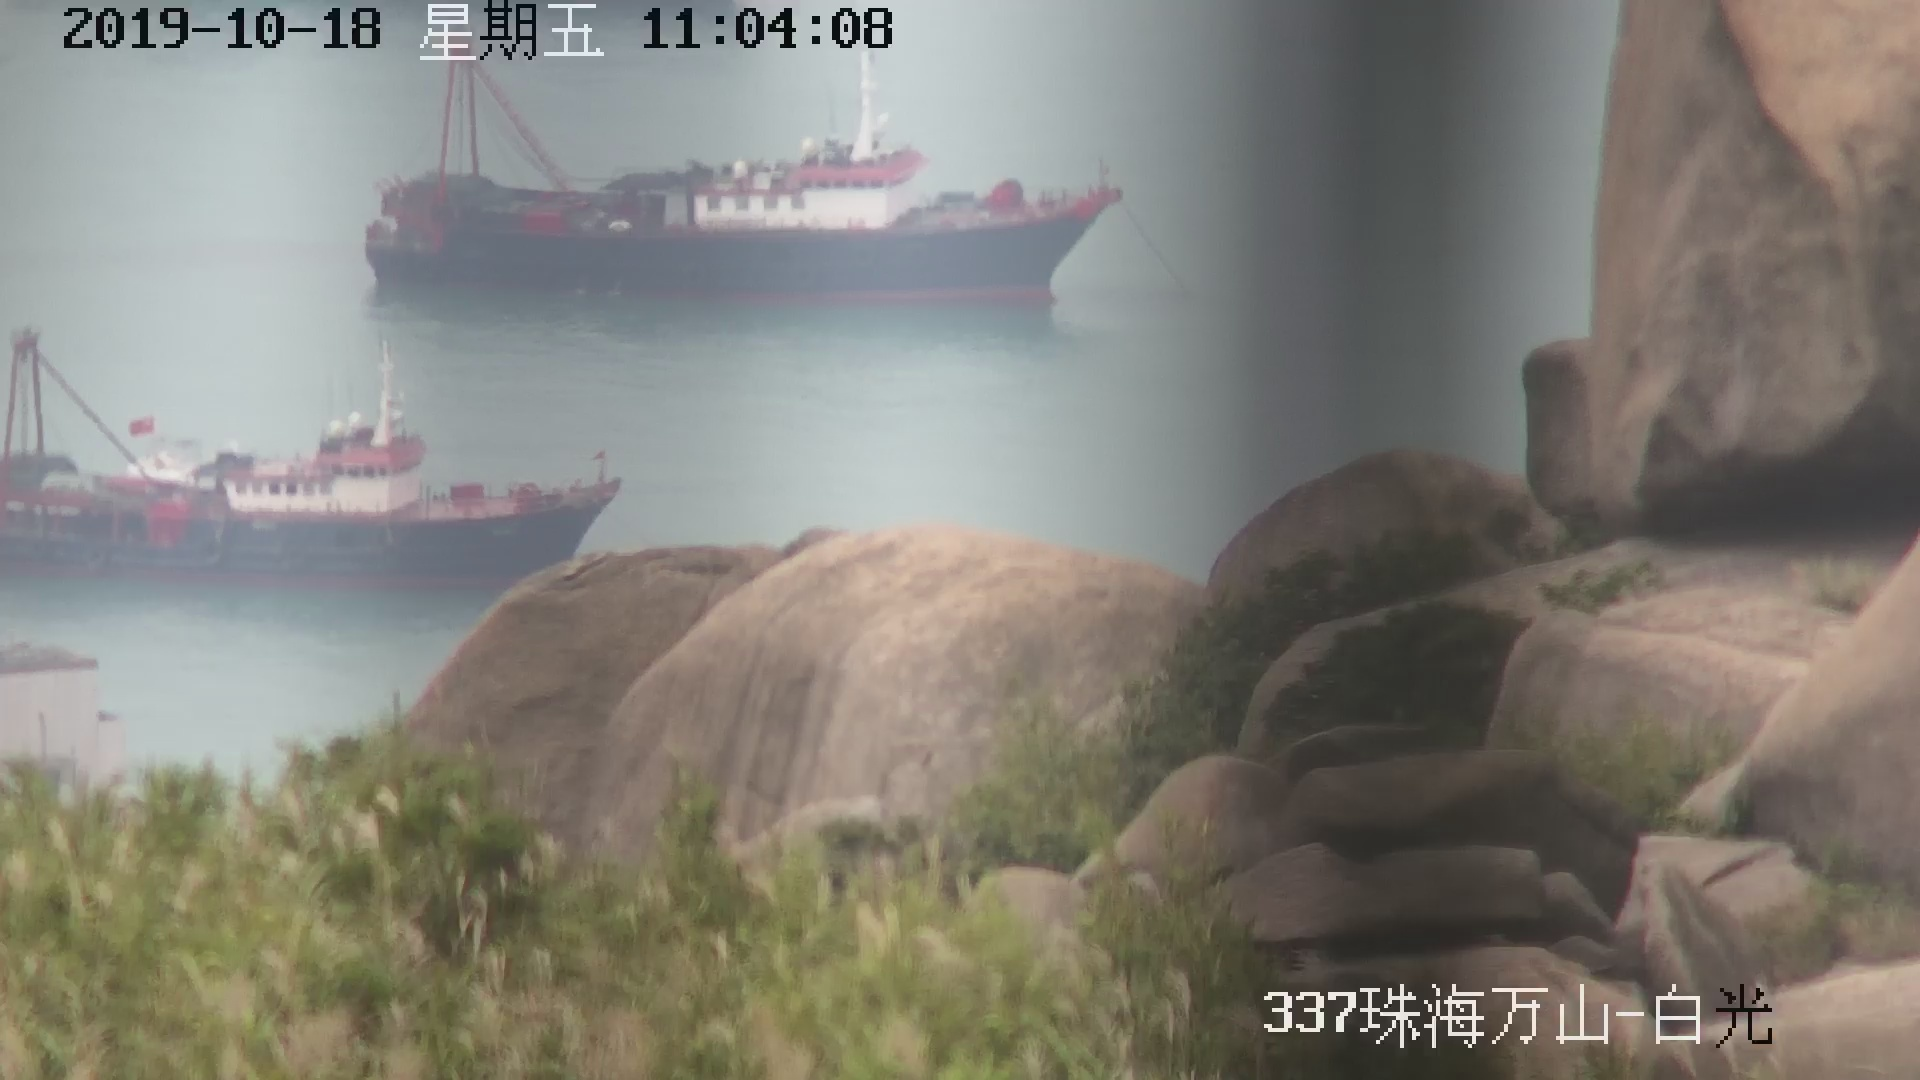ship: (359, 11, 1116, 278), (4, 313, 615, 545)
